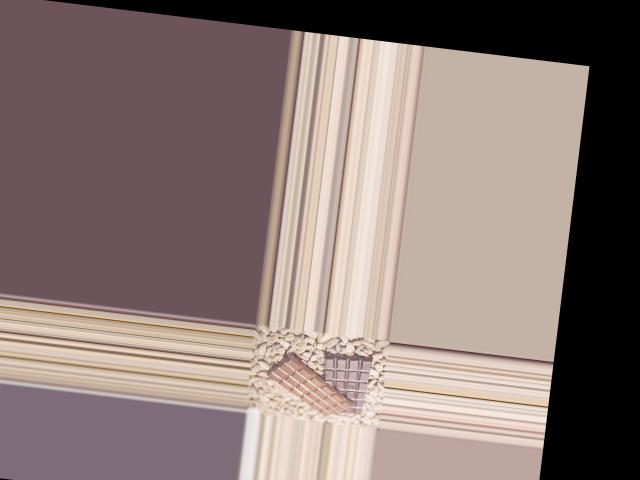chocolate: (318, 348, 379, 419)
